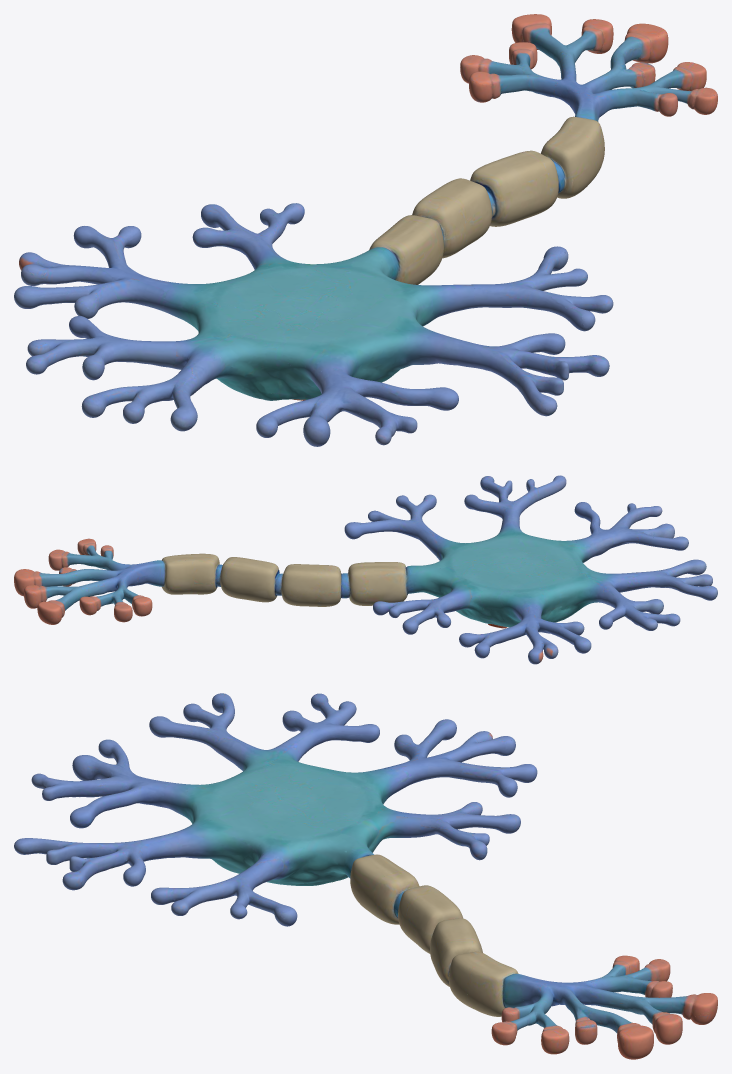
The model's file is neuron.glb.
The picture shows the model from 3 angles, top to bottom: view 1: azimuth 30°, elevation 25°; view 2: azimuth 150°, elevation 25°; view 3: azimuth 270°, elevation 25°; orthographic projection. The views are drawn at different scales.
Visible parts, largest first — view 1: neuron; view 2: neuron; view 3: neuron.
Part boxes in pixels (bbox=[...]): neuron: bbox=[14, 14, 717, 446]; neuron: bbox=[14, 475, 717, 664]; neuron: bbox=[14, 693, 717, 1059].
Bounding box in the file's own units: 0.3 × 0.0299 × 0.2565.
1 material, 1 textured.
